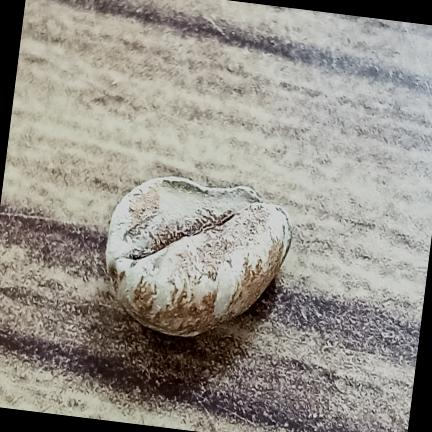broken: (106, 176, 291, 336)
